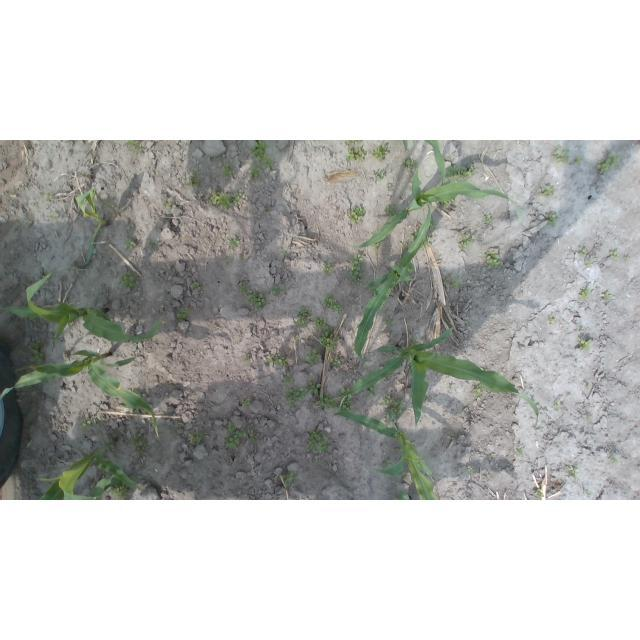Maize: (336, 328, 538, 427), (0, 350, 160, 437), (354, 202, 433, 360), (355, 168, 509, 248), (1, 272, 164, 342), (335, 407, 437, 500), (36, 444, 144, 500), (76, 188, 106, 271), (402, 140, 447, 185)
Weeds: (210, 188, 243, 211), (305, 429, 332, 453), (382, 396, 406, 423), (250, 141, 272, 168), (225, 425, 247, 450), (349, 254, 366, 284), (448, 164, 473, 183), (597, 152, 620, 172), (29, 339, 46, 365), (320, 328, 337, 353), (286, 387, 305, 408), (248, 292, 267, 312), (120, 271, 141, 289), (323, 295, 344, 313), (338, 388, 353, 413), (553, 144, 571, 164), (109, 482, 129, 500), (132, 433, 149, 453), (349, 206, 366, 225), (295, 308, 312, 327), (345, 147, 365, 163), (484, 251, 500, 270), (459, 234, 476, 250), (371, 144, 387, 161), (320, 393, 337, 409), (474, 380, 489, 397), (304, 380, 320, 395), (306, 349, 321, 364), (187, 172, 200, 189), (267, 356, 289, 366), (188, 432, 205, 444), (282, 471, 296, 485), (568, 466, 581, 481), (447, 274, 462, 287), (220, 163, 233, 177), (176, 308, 190, 321), (543, 214, 557, 227), (315, 318, 329, 331), (128, 140, 143, 152), (227, 235, 239, 250), (372, 168, 385, 181), (578, 339, 591, 352), (403, 157, 418, 168), (538, 186, 553, 197), (250, 166, 262, 178), (385, 203, 396, 215), (579, 288, 590, 300), (420, 234, 429, 247), (368, 384, 377, 397), (368, 284, 378, 295), (126, 239, 136, 250), (609, 250, 620, 260), (44, 270, 56, 279), (270, 285, 280, 295), (192, 283, 203, 292), (536, 489, 545, 500), (82, 419, 91, 430), (438, 198, 454, 204), (428, 220, 435, 233), (610, 455, 620, 464), (552, 400, 562, 409), (243, 397, 252, 407), (330, 358, 340, 367), (240, 284, 249, 293), (484, 216, 493, 225), (574, 155, 582, 165), (384, 316, 392, 326), (283, 375, 293, 383), (44, 192, 52, 201), (165, 198, 174, 206), (604, 292, 612, 301), (372, 241, 380, 250), (323, 264, 331, 273), (384, 460, 392, 468), (584, 260, 593, 267), (176, 422, 185, 429), (92, 248, 97, 260), (345, 140, 360, 144), (280, 248, 287, 256), (249, 434, 256, 442), (402, 241, 409, 249), (128, 476, 136, 483), (479, 367, 489, 372), (411, 233, 418, 240), (548, 317, 555, 324), (517, 450, 524, 457), (50, 214, 57, 220), (579, 248, 586, 254), (293, 334, 299, 340), (583, 383, 589, 389), (386, 184, 393, 189), (274, 424, 281, 429), (225, 260, 232, 265), (244, 358, 249, 364), (468, 466, 473, 472), (239, 254, 246, 258), (151, 240, 157, 244), (94, 414, 98, 420), (588, 418, 592, 420)
